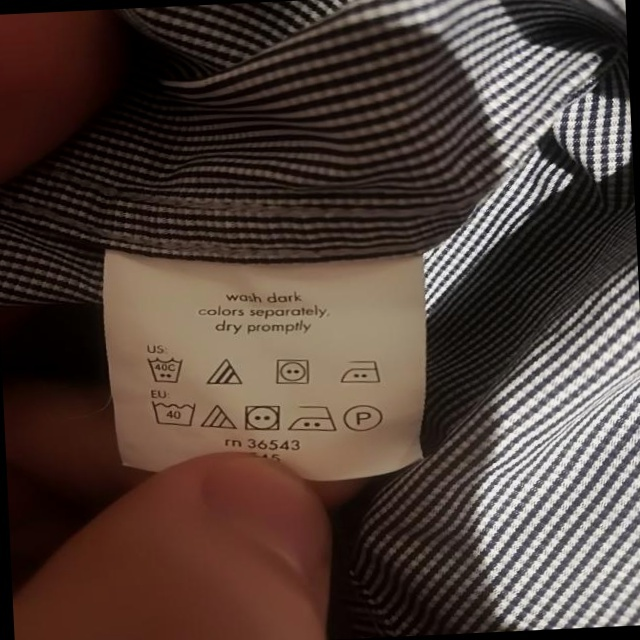40C: (147, 397, 204, 431), (148, 354, 191, 385)
dry_clean_any_solvent_except_trichloroethylene: (344, 401, 384, 434)
iron_medium: (290, 400, 339, 434), (337, 354, 384, 388)
non_chlorine_bleach: (206, 358, 247, 388), (199, 404, 238, 434)
tumble_dry_medium: (241, 401, 284, 435), (271, 356, 316, 387)
